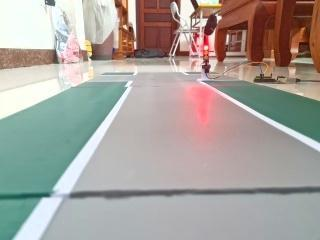red: (197, 43, 214, 83)
